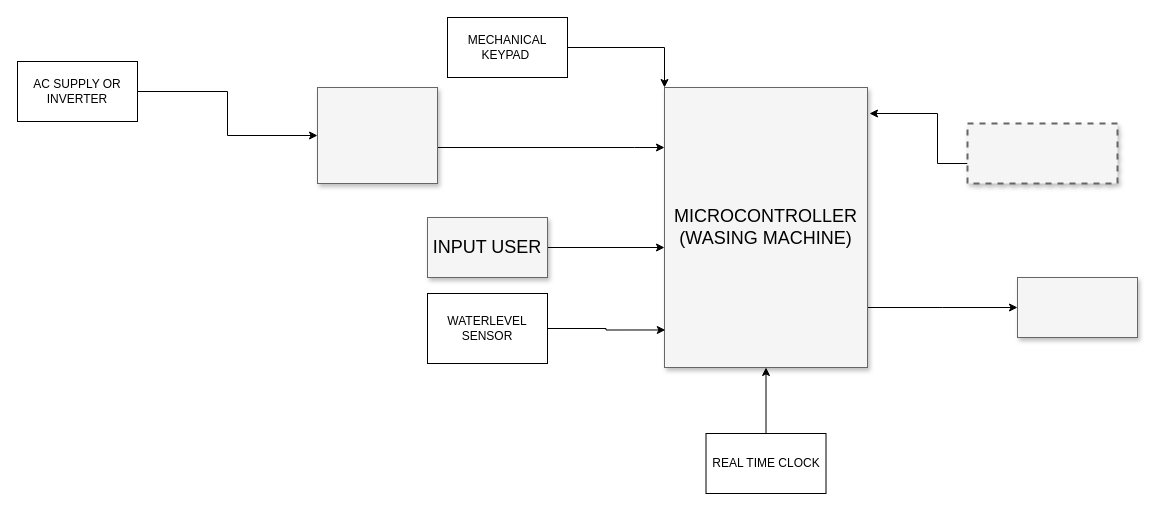
This 1161x511 diagram has some shape labels left out. Here are the shapes that lost their labels. From the top down, the centre of each, then its label:
At (x=378, y=136): "POWER SUPPLY".
At (x=1043, y=154): "LCD DISPLAY".
At (x=1078, y=308): "ALARM INDICATOR".
